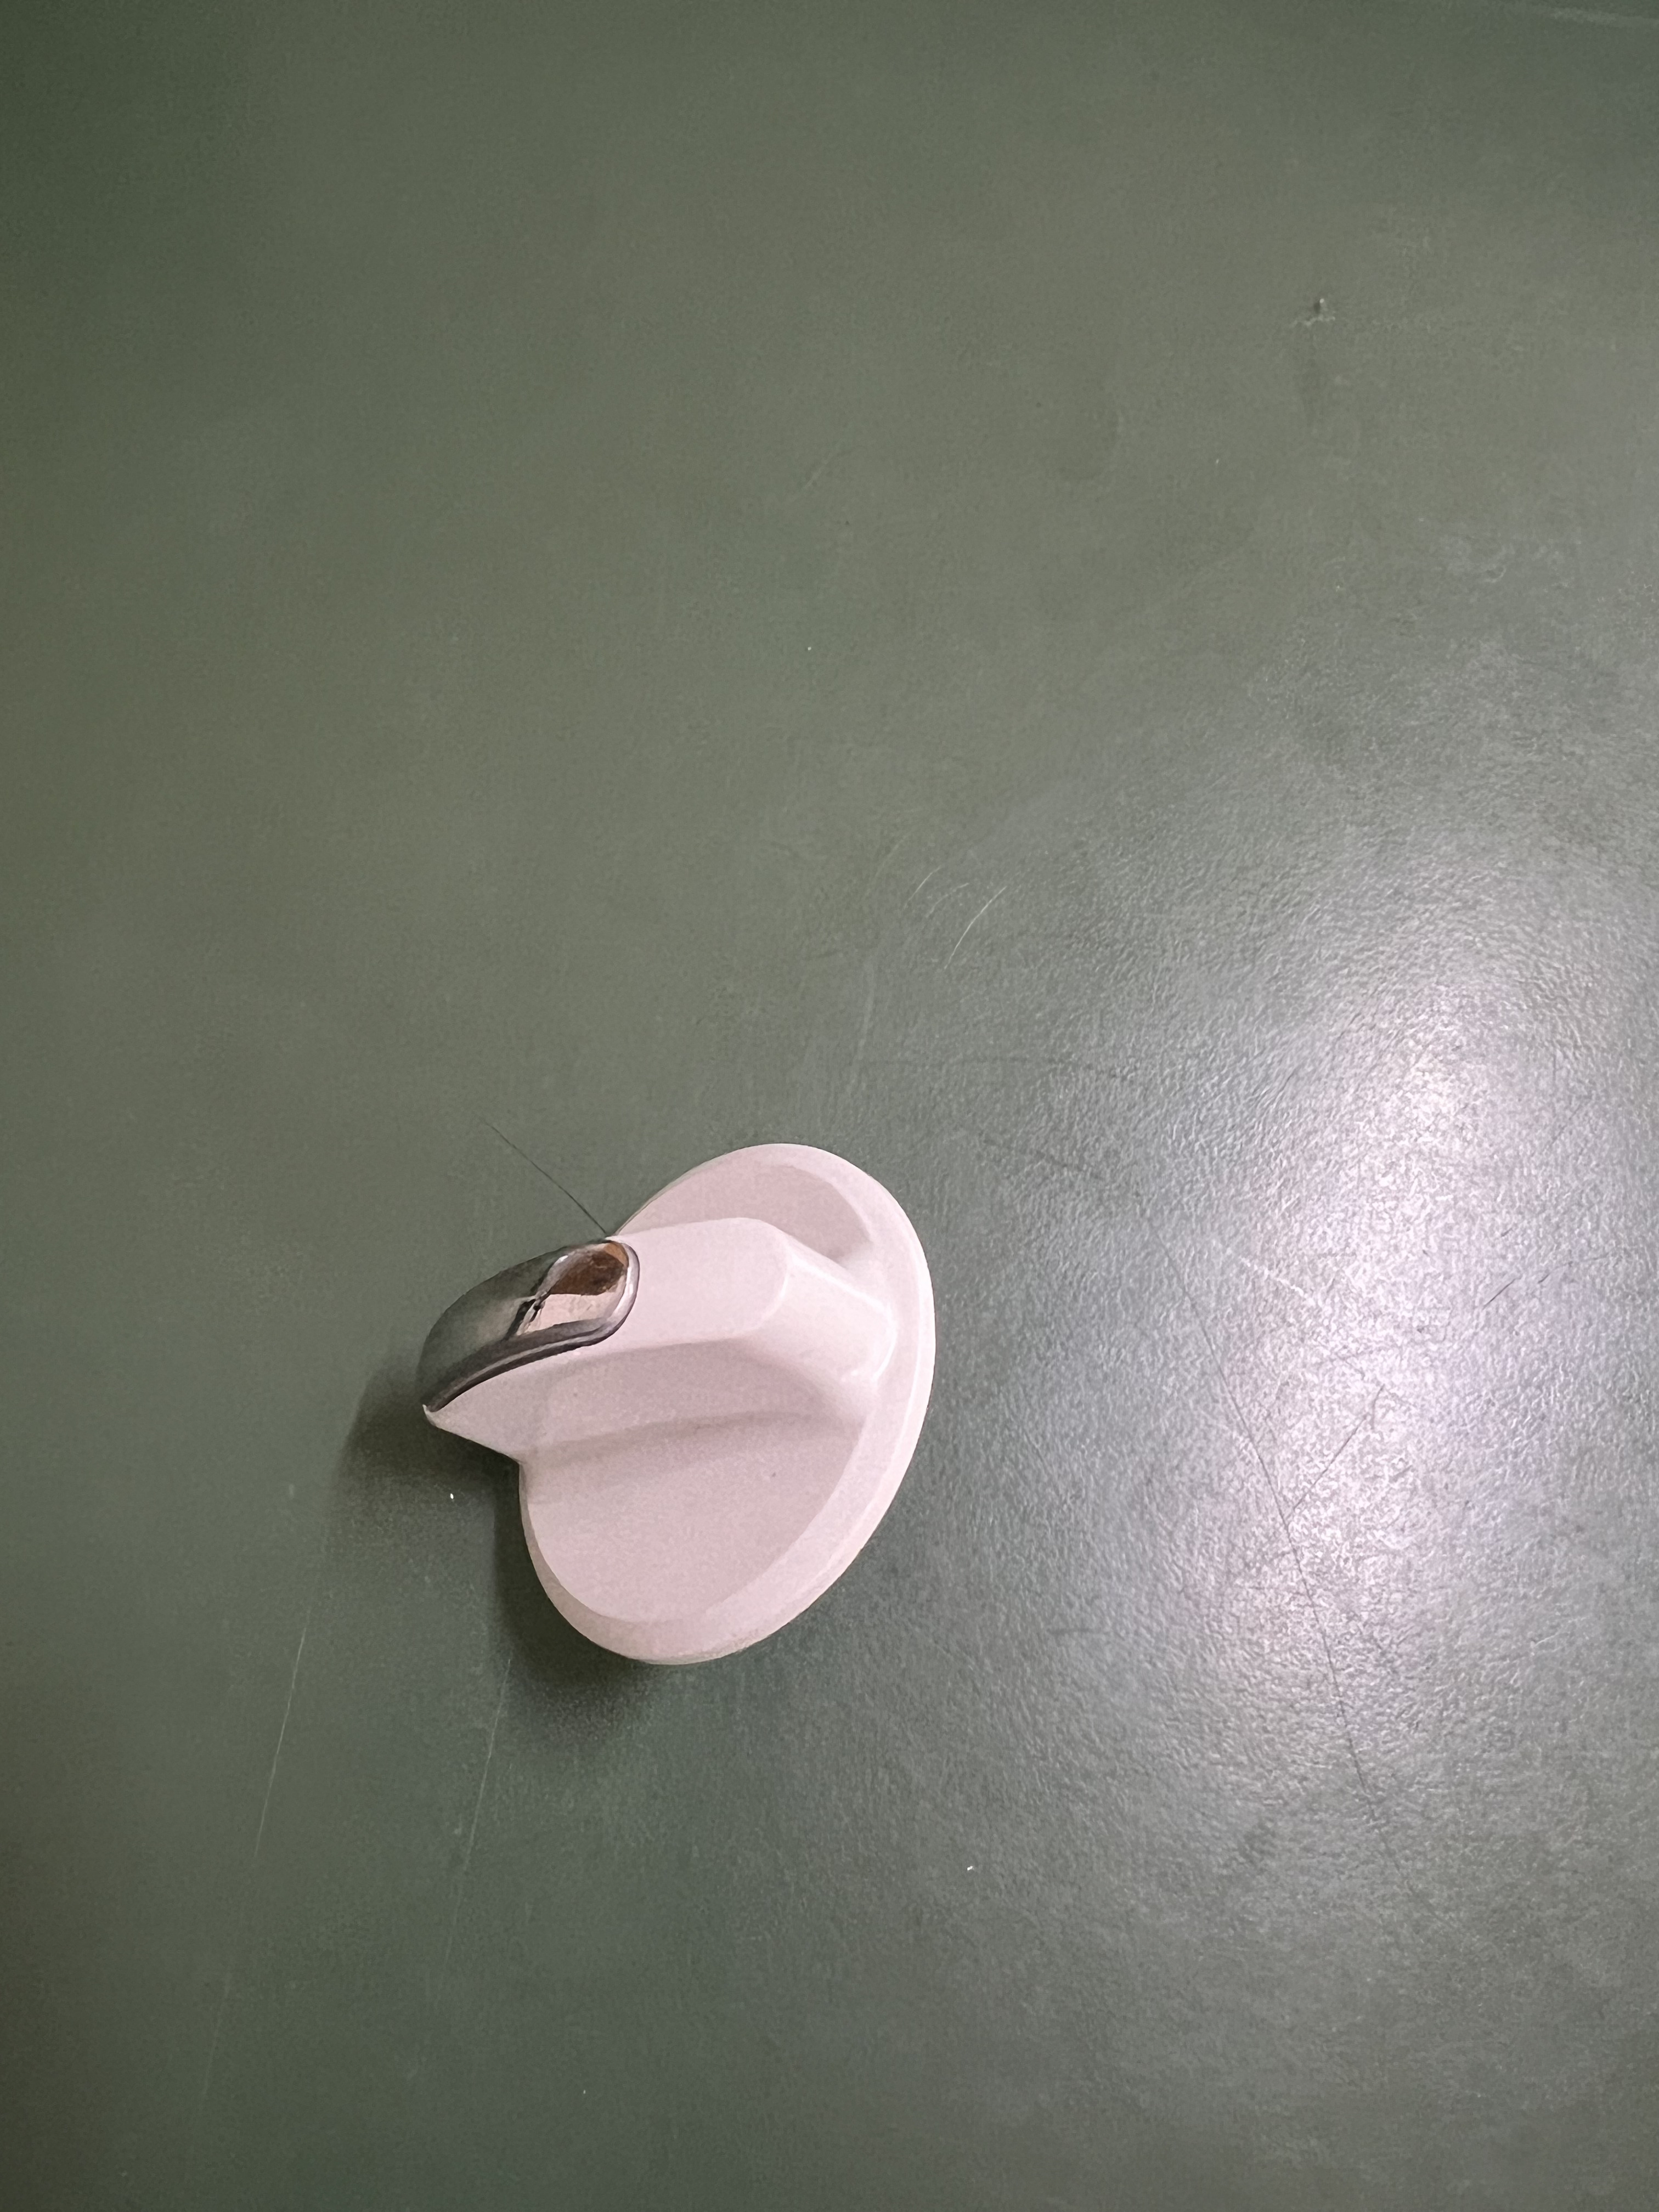regulator: (385, 1090, 974, 1660)
